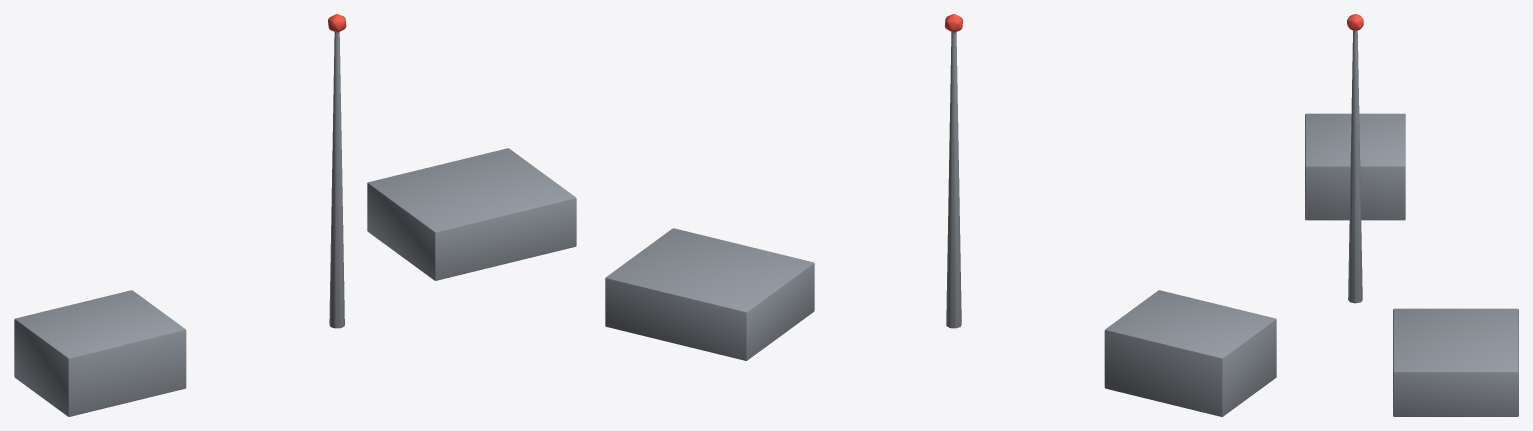
File: remate_antena.glb
3 renders of one model, left to right at view 1: azimuth 30°, elevation 25°; view 2: azimuth 150°, elevation 25°; view 3: azimuth 270°, elevation 25°, orthographic. The views are drawn at different scales.
Visible parts, largest first — view 1: remate_antena; view 2: remate_antena; view 3: remate_antena.
Part boxes in pixels (bbox=[...]): remate_antena: bbox=[14, 14, 576, 416]; remate_antena: bbox=[605, 14, 1276, 416]; remate_antena: bbox=[1305, 14, 1518, 416].
Bounding box in the file's own units: 11.75 × 6.28 × 4.25.
1 material, 1 textured.
